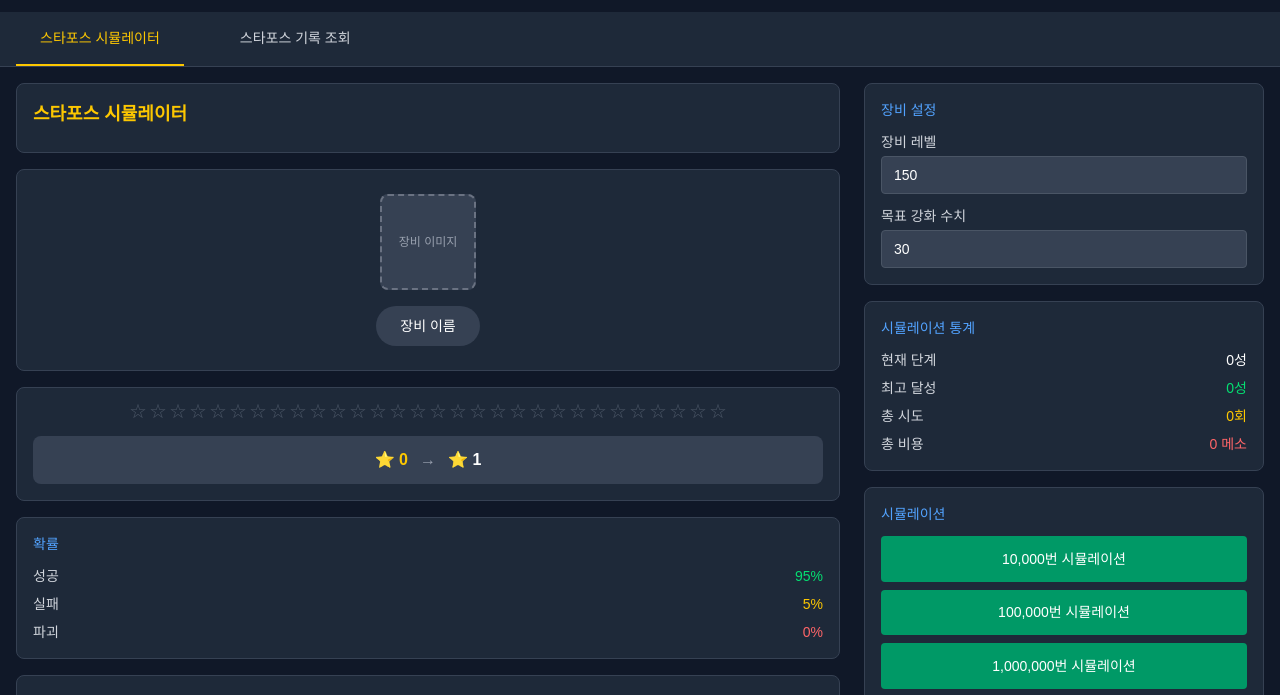
Test: 시뮬레이터 › 대량 강화 › 10,000번 시뮬레이션 확인
Expected: the text with test id "attempt" reads "0회", [1226,406,1247,426]
# 10,000번 시뮬레이션 버튼 클릭
Click the button with test id "btn-bulk10k". click: x=1064, y=559
box: [881,536,1247,582]
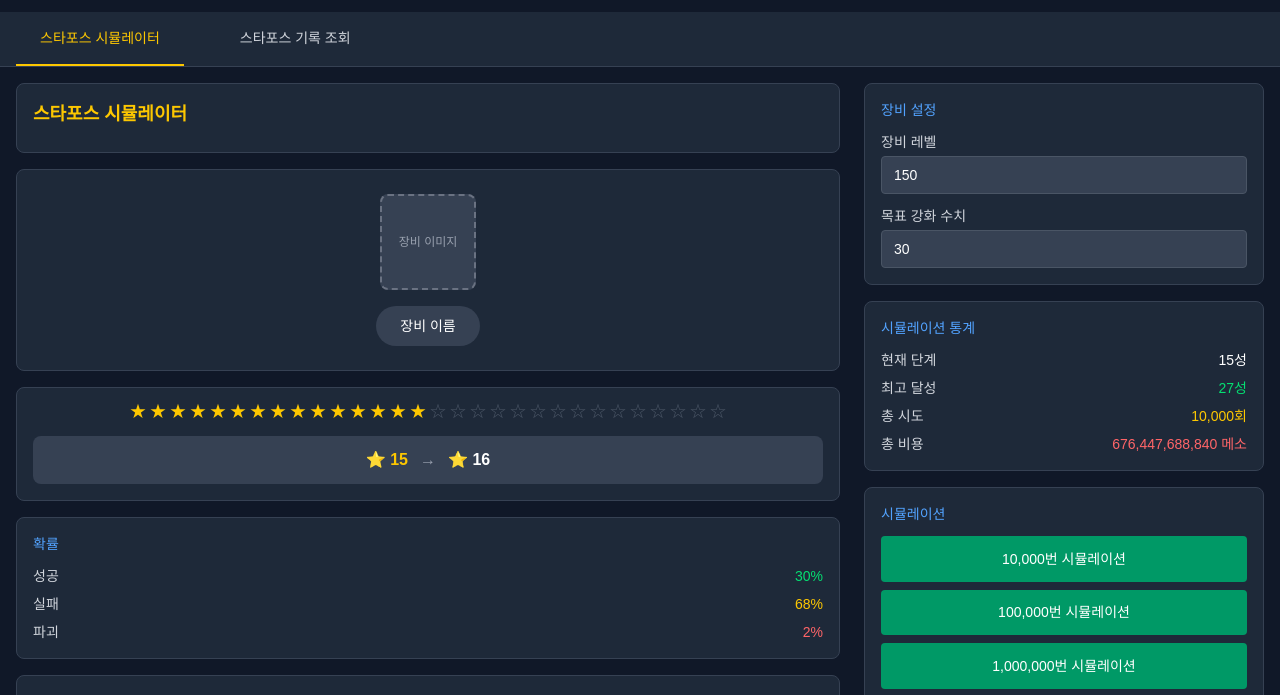
Result: the element with test id "attempt" shows more than "0" at [881,406,1247,426]
Result: the element with test id "attempt" shows at most "10000" at [881,406,1247,426]
